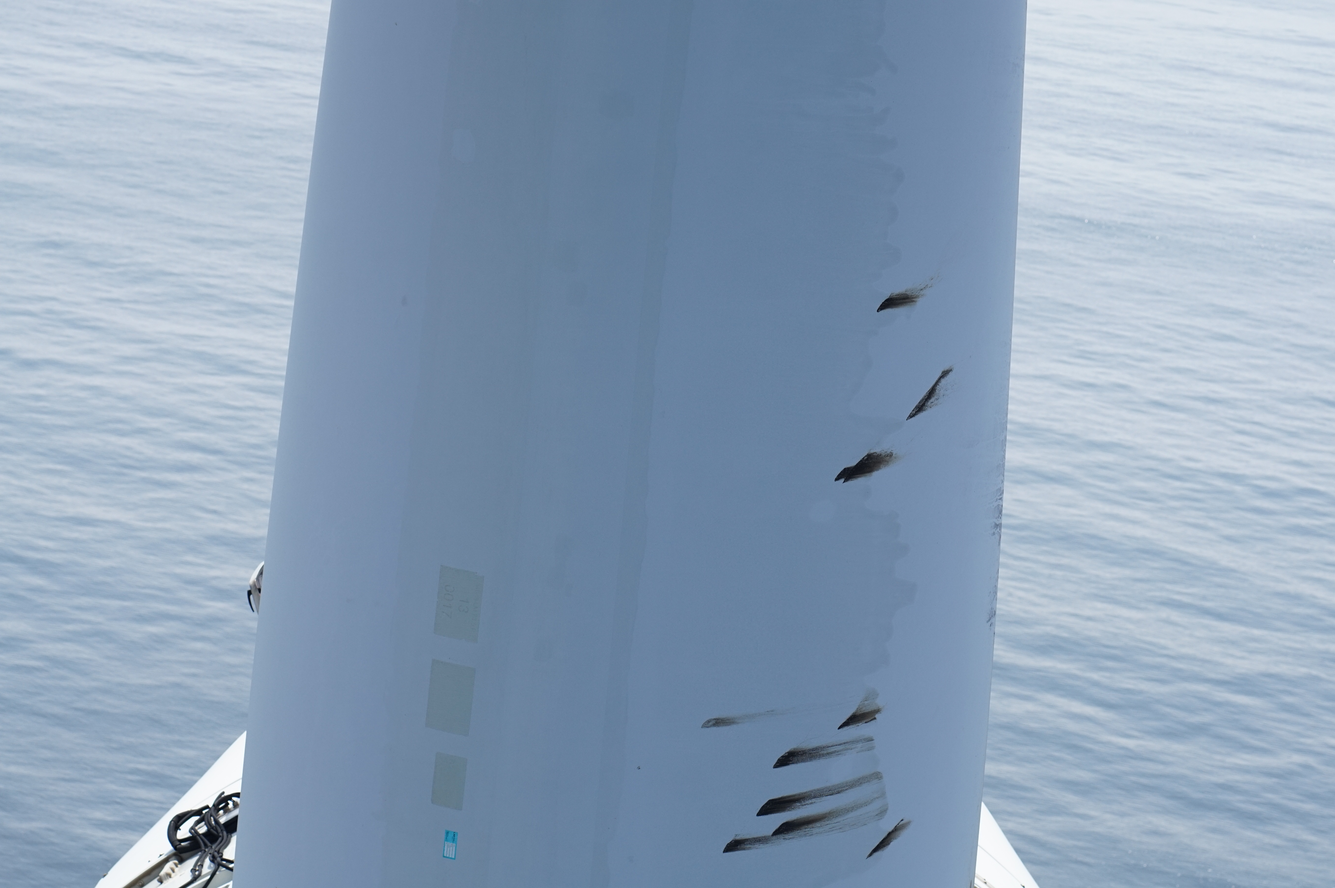Dirt: (722, 775, 891, 854), (771, 735, 876, 769), (905, 365, 954, 420), (830, 449, 899, 486), (865, 818, 914, 860), (837, 686, 882, 731), (877, 281, 926, 313)
